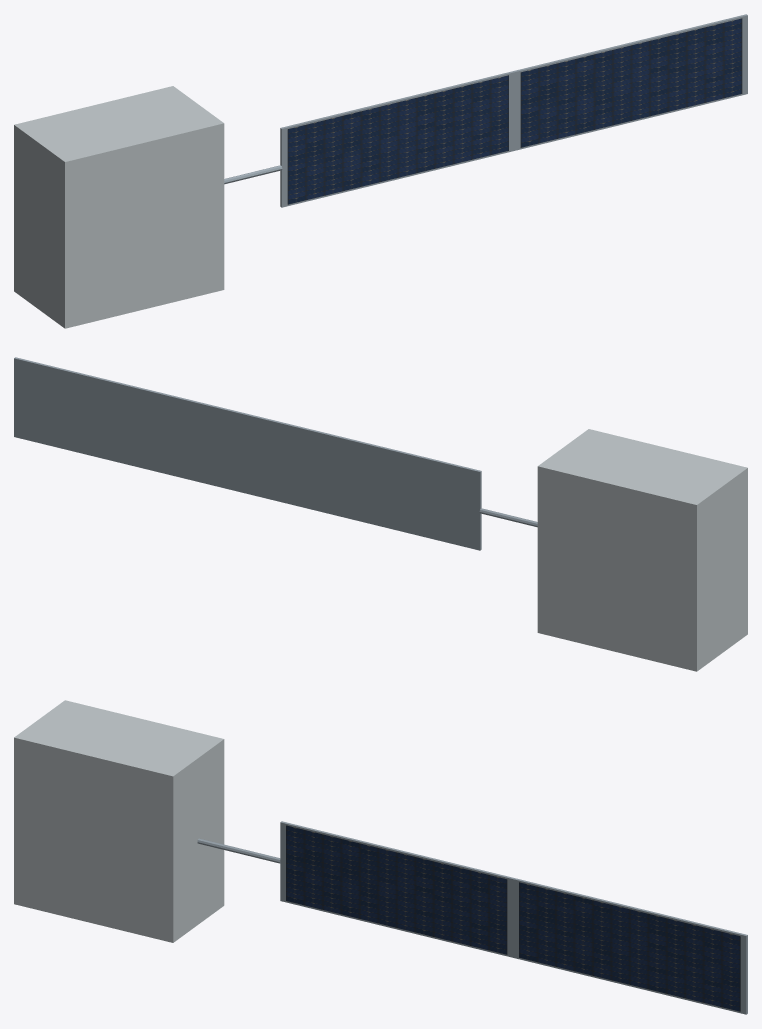
File: ref-eureca-22065.glb
The picture shows the model from 3 angles, top to bottom: view 1: azimuth 30°, elevation 25°; view 2: azimuth 150°, elevation 25°; view 3: azimuth 330°, elevation 25°; orthographic projection.
Parts seen in each view (by area): view 1: Spacecraft body, Photovoltaic laminates (×2), Array frame (×2); view 2: Spacecraft body, Array frame (×2); view 3: Spacecraft body, Photovoltaic laminates (×2), Array frame (×2).
Boxes of the visible parts, x1=… form: Spacecraft body: x1=14, y1=86, x2=224, y2=328; Photovoltaic laminates (×2): x1=287, y1=18, x2=742, y2=204; Array frame (×2): x1=280, y1=14, x2=747, y2=207; Spacecraft body: x1=537, y1=429, x2=747, y2=671; Array frame (×2): x1=14, y1=357, x2=481, y2=550; Spacecraft body: x1=14, y1=700, x2=224, y2=942; Photovoltaic laminates (×2): x1=286, y1=825, x2=740, y2=1011; Array frame (×2): x1=280, y1=821, x2=747, y2=1014.
Size of the model in its own units: 20 by 4.5 by 2.5.
Materials: 3 (1 with a texture image).
